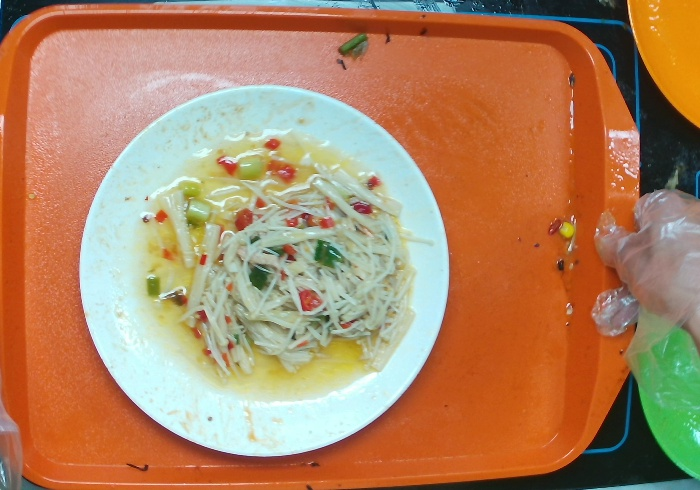HZYJPL-Bai_Se_Yuan_Pan: (76, 79, 458, 470)
